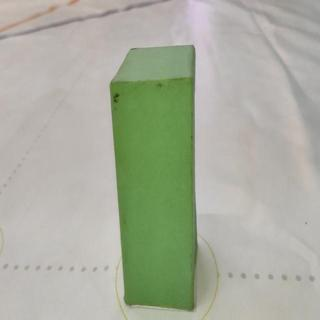greenbox: (107, 44, 200, 312)
